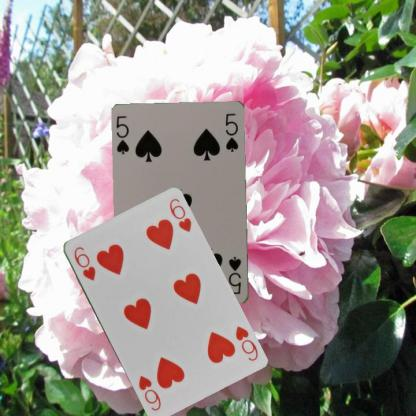5s: (226, 254, 243, 296), (114, 113, 130, 156)
6h: (232, 323, 260, 362), (70, 244, 96, 282)
